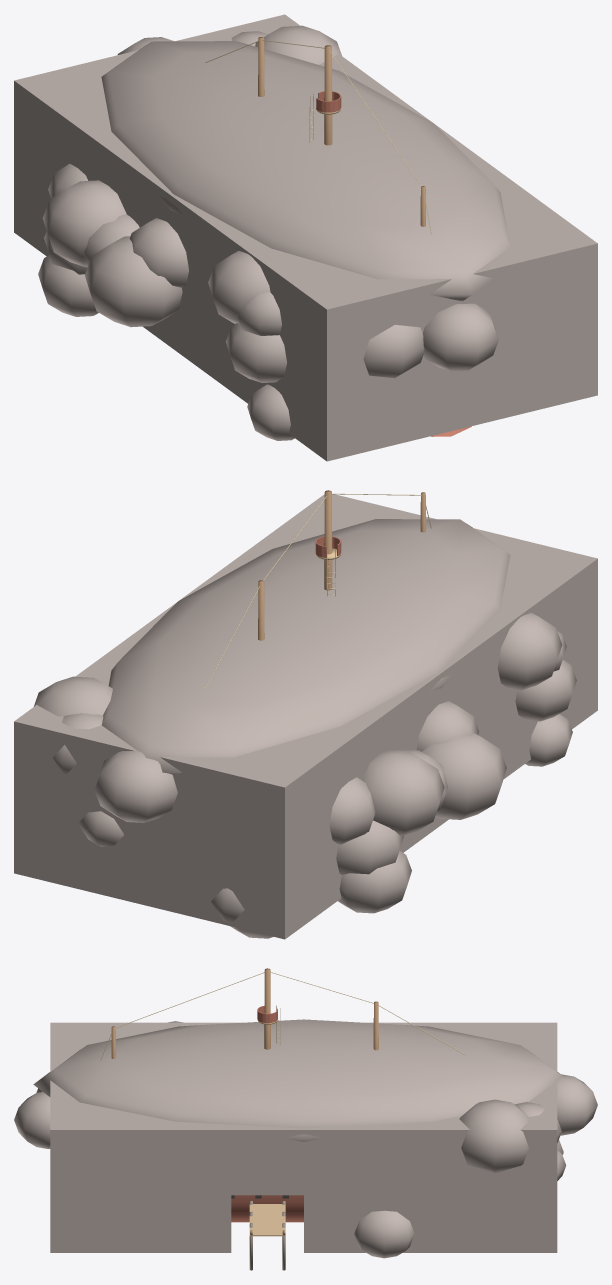
Rendered from pirate_props.fbx.
The picture shows the model from 3 angles, top to bottom: view 1: azimuth 30°, elevation 25°; view 2: azimuth 150°, elevation 25°; view 3: azimuth 270°, elevation 25°; orthographic projection. The views are drawn at different scales.
Visible parts, largest first — view 1: Lump__Rock, Cave__Rock, Mast__Wood; view 2: Lump__Rock, Cave__Rock, Mast__Wood, Rope__Rope.001; view 3: Cave__Rock, Lump__Rock, Hull__ShipRed, JettyDeck__DeckWood, Mast__Wood, Rope__Rope.001.
Part boxes in pixels (x1,y1,x2,y2): Lump__Rock: (38, 25, 510, 440); Cave__Rock: (14, 14, 597, 461); Mast__Wood: (258, 37, 425, 226); Lump__Rock: (33, 519, 576, 938); Cave__Rock: (14, 494, 597, 939); Mast__Wood: (258, 490, 425, 640); Rope__Rope.001: (205, 493, 431, 687); Cave__Rock: (50, 1022, 557, 1252); Lump__Rock: (14, 1019, 597, 1258); Hull__ShipRed: (231, 1195, 303, 1222); JettyDeck__DeckWood: (249, 1204, 285, 1236); Mast__Wood: (111, 968, 378, 1058); Rope__Rope.001: (100, 972, 466, 1060).
Bounding box in the file's own units: 37.77 × 32 × 64.53.
